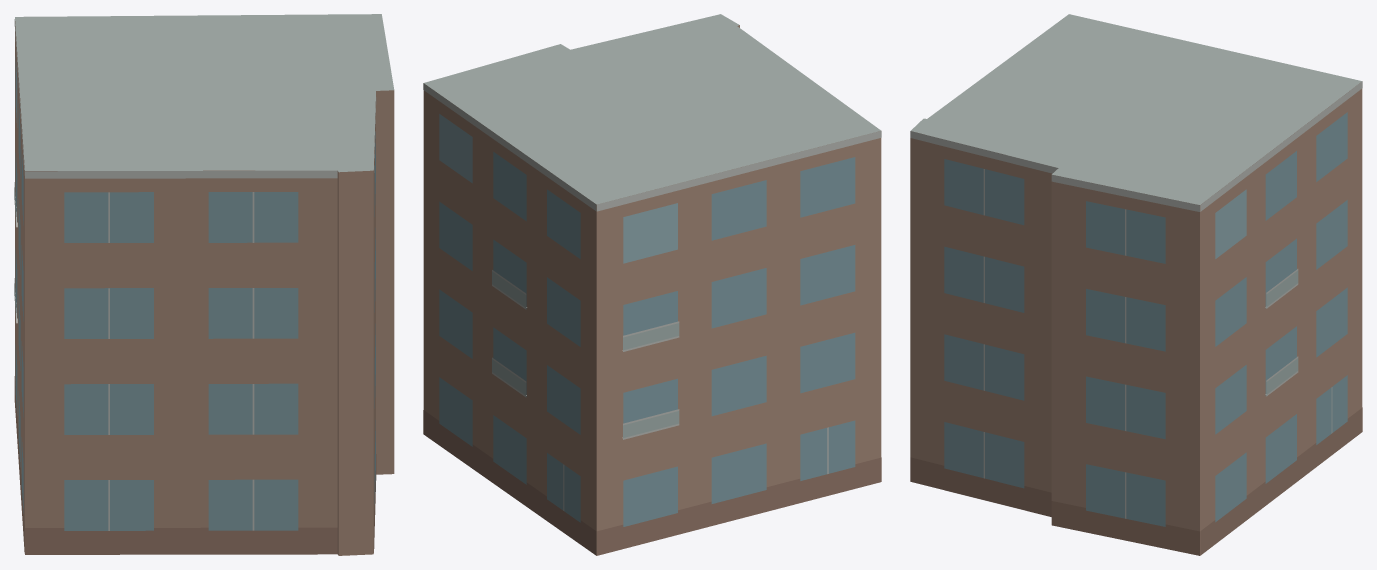
Rendered from survey-upis-32968386.glb.
3 renders of one model, left to right at view 1: azimuth 30°, elevation 25°; view 2: azimuth 150°, elevation 25°; view 3: azimuth 270°, elevation 25°, orthographic. The views are drawn at different scales.
Visible parts, largest first — view 1: survey-upis-32968386.tmp; view 2: survey-upis-32968386.tmp; view 3: survey-upis-32968386.tmp.
Boxes of the visible parts, x1,y1,x2,y2 form: survey-upis-32968386.tmp: (14,14,394,555); survey-upis-32968386.tmp: (423,14,881,555); survey-upis-32968386.tmp: (910,14,1362,555).
Bounding box in the file's own units: 14.27 × 12.2 × 14.26.
